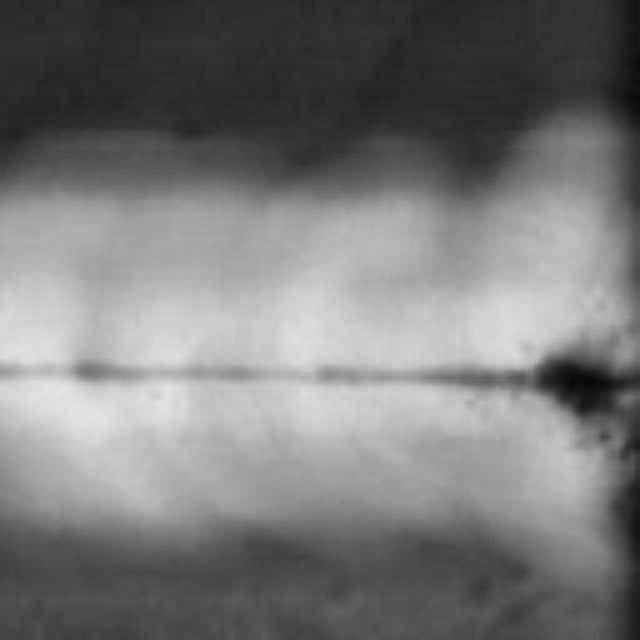LoP-LoF: (6, 335, 523, 424)
Slag: (530, 316, 640, 457)
